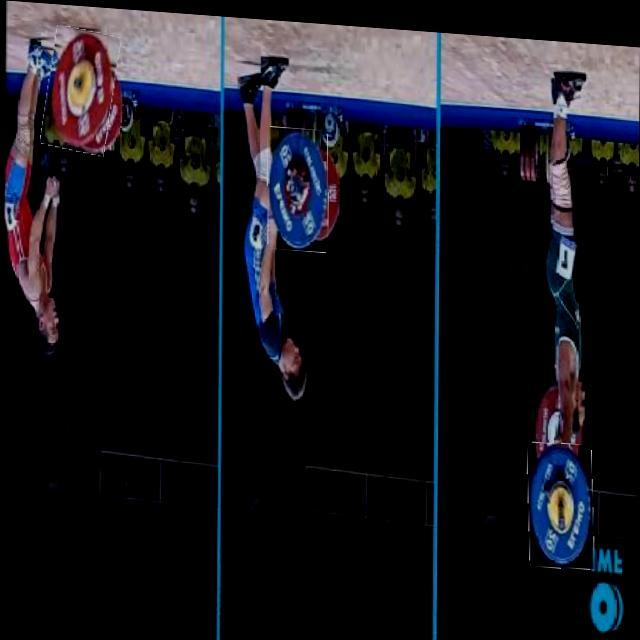barbell: (45, 26, 118, 155), (529, 433, 596, 562), (268, 123, 330, 248)
